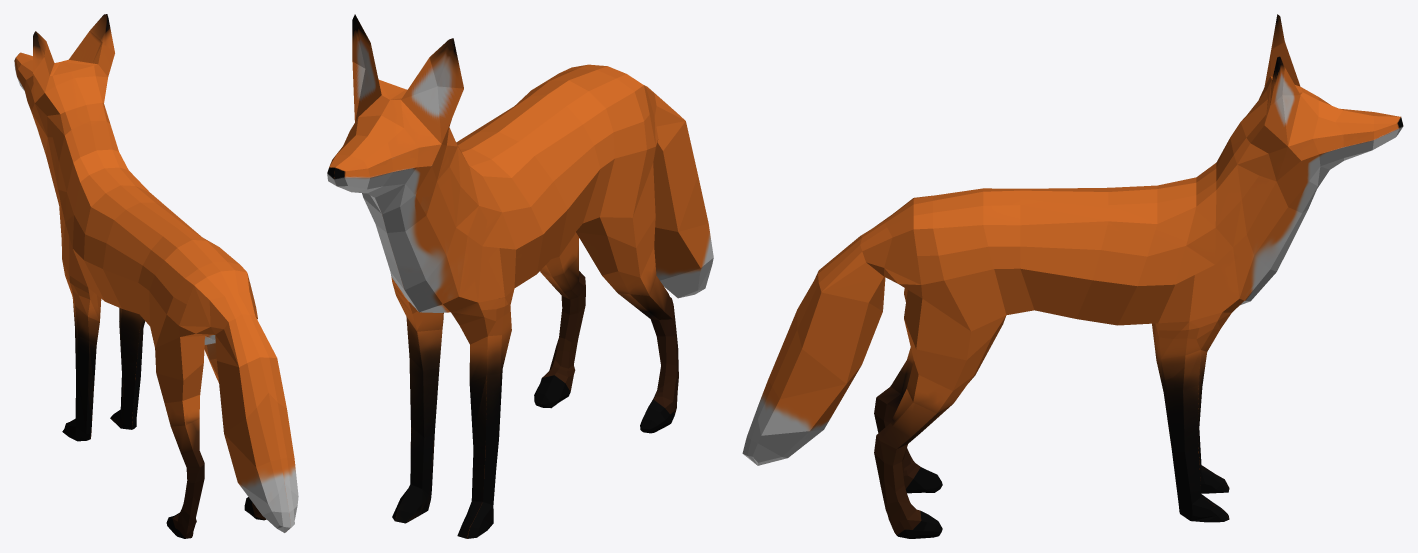
The model's file is fox.glb.
3 views of the same model, side by side, from view 1: azimuth 30°, elevation 25°; view 2: azimuth 150°, elevation 25°; view 3: azimuth 270°, elevation 25° (orthographic). The views are drawn at different scales.
Parts seen in each view (by area): view 1: Plane; view 2: Plane; view 3: Plane.
Part boxes in pixels (x1,y1,x2,y2): Plane: (14, 14, 298, 538); Plane: (327, 14, 713, 538); Plane: (742, 14, 1403, 538).
Bounding box in the file's own units: 1.69 × 6.78 × 8.52.
Materials: 1 (1 with a texture image).
